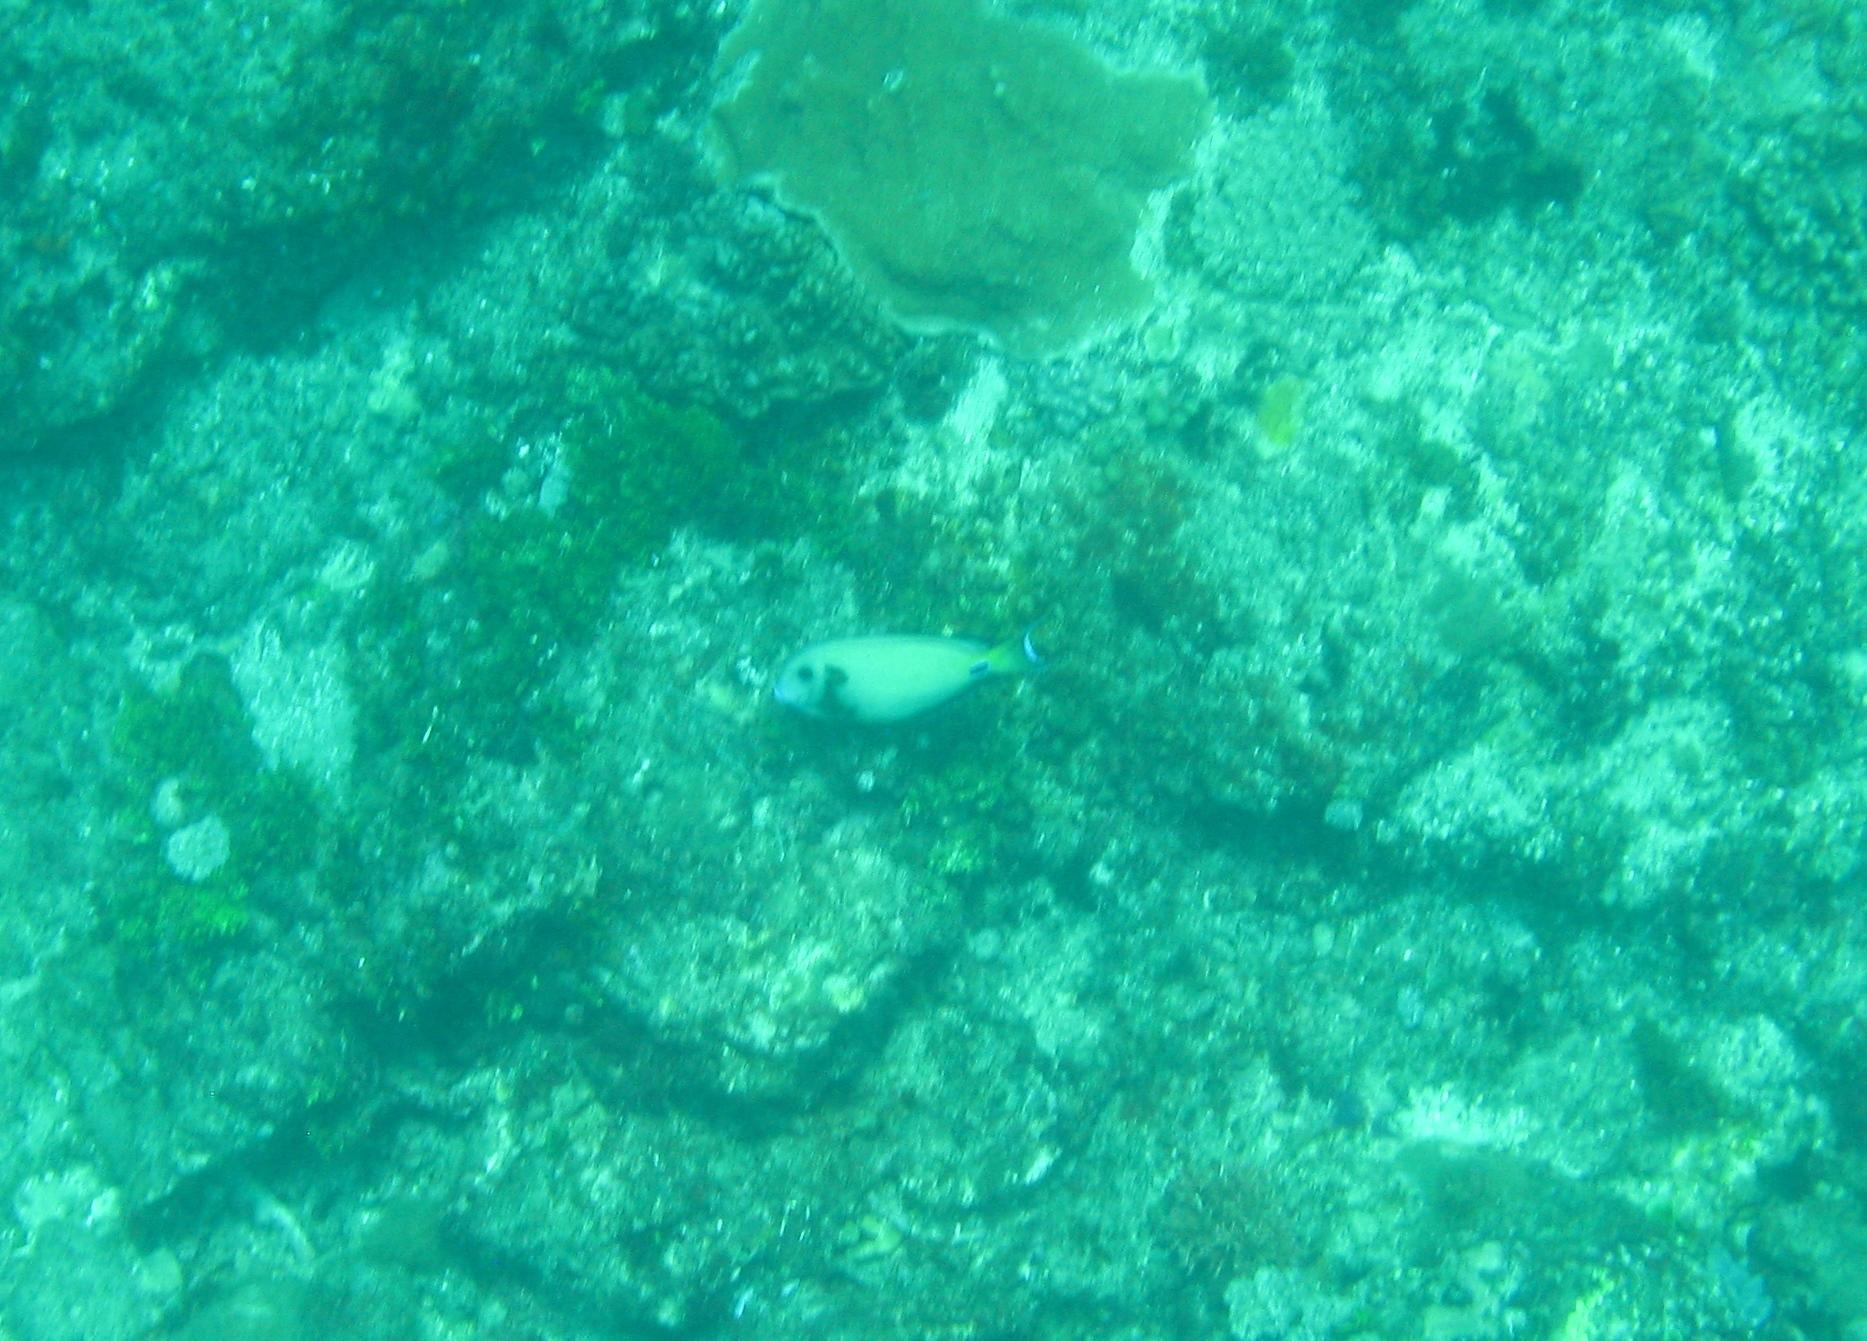Fish: (747, 570, 1202, 877)
